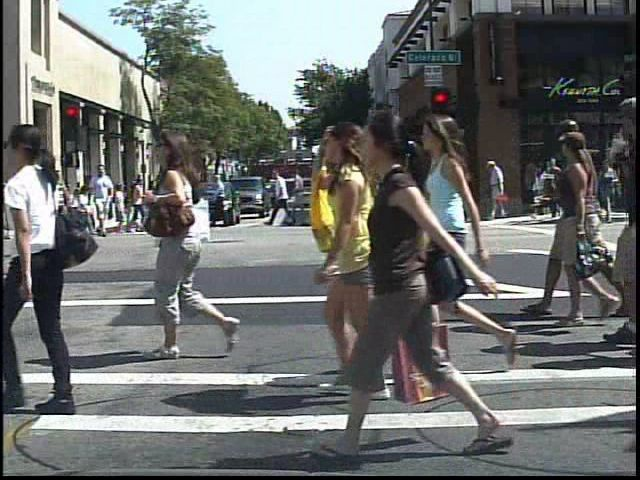person: (341, 102, 482, 462), (411, 104, 546, 380), (0, 116, 104, 430), (126, 117, 243, 363), (304, 113, 401, 403), (87, 160, 119, 233), (42, 165, 70, 240), (12, 171, 36, 242), (492, 155, 509, 227), (101, 177, 121, 218), (164, 175, 183, 210)
